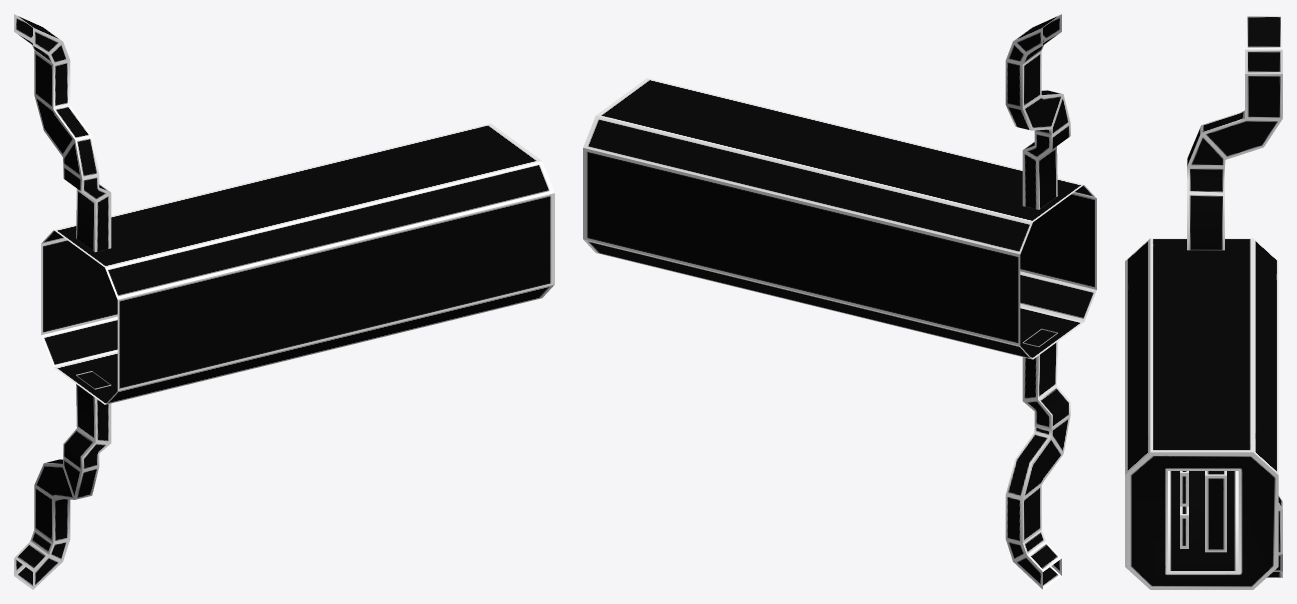
Rendered from SM_plateforme_mouvante (1).FBX.
3 renders of one model, left to right at view 1: azimuth 30°, elevation 25°; view 2: azimuth 150°, elevation 25°; view 3: azimuth 270°, elevation 25°, orthographic.
Visible parts, largest first — view 1: Box001; view 2: Box001; view 3: Box001.
Part boxes in pixels (<box>): Box001: <box>14,14,554,589</box>; Box001: <box>583,14,1096,589</box>; Box001: <box>1125,14,1282,589</box>.
Size of the model in its own units: 211 by 246 by 62.31.
